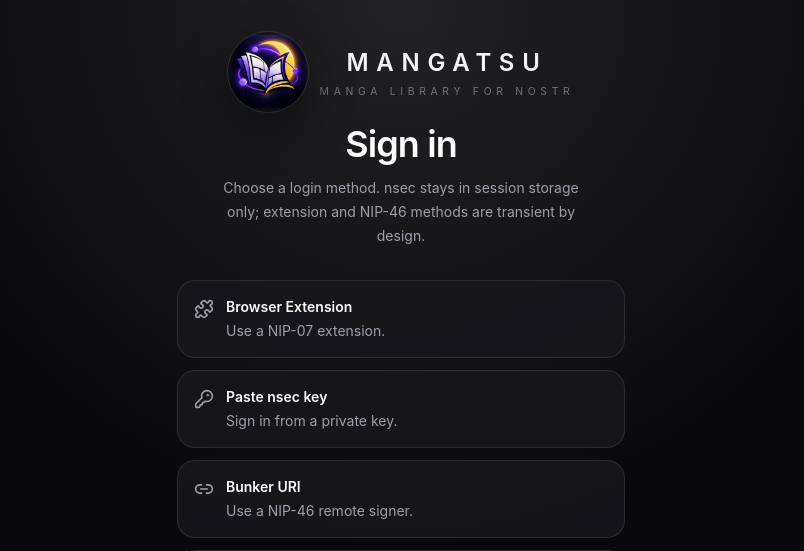
it: LoginScreen › shows an error for an invalid nsec and stays on the page
Click the button "Paste nsec key Sign in from a private key." at (277, 396), box x1=177 y1=370 x2=625 y2=448
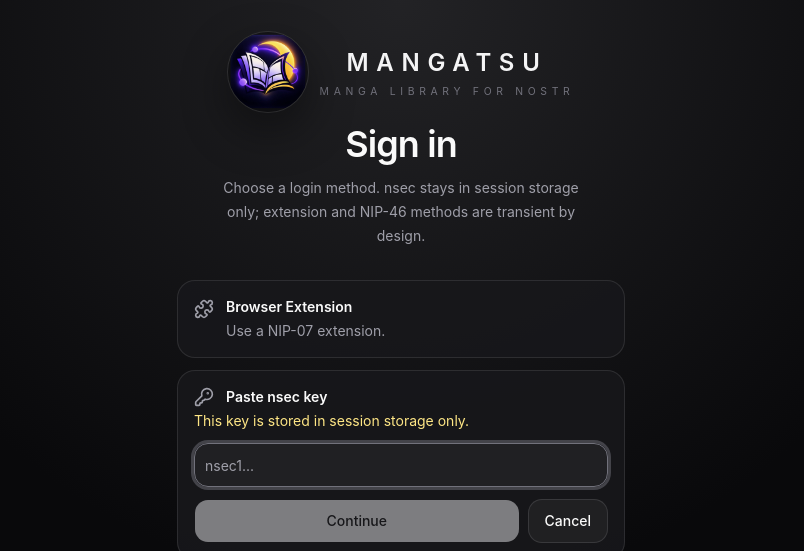
Type "not-a-key" into the password field named "private key (nsec)" at (401, 465), box x1=194 y1=443 x2=608 y2=487
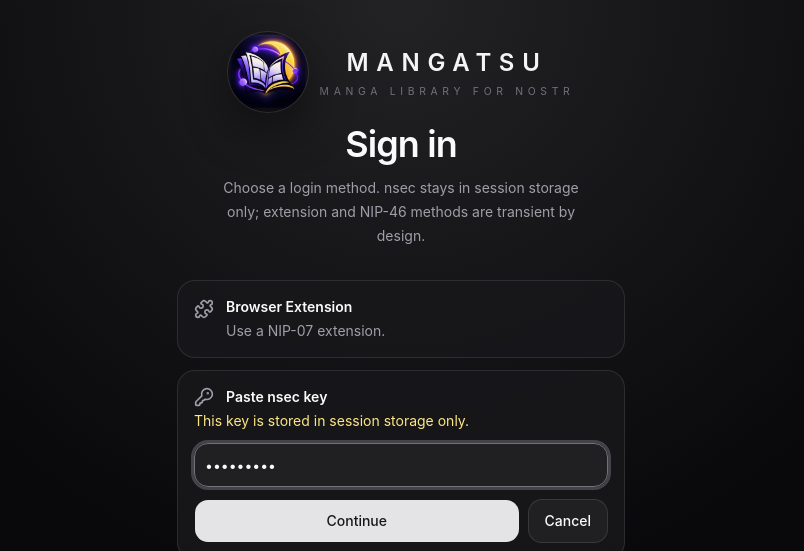
Click the button "Continue" at (357, 521), box x1=194 y1=499 x2=520 y2=543
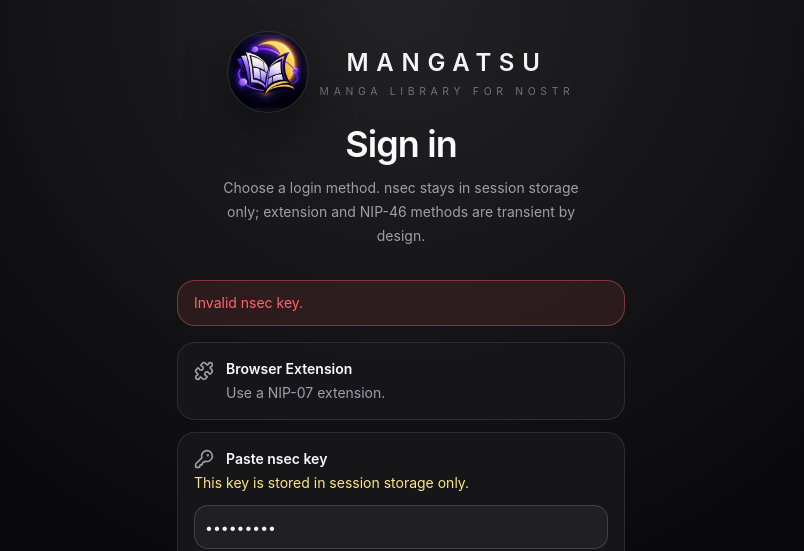
Now the message shows "Invalid nsec key", box x1=194 y1=294 x2=303 y2=311
